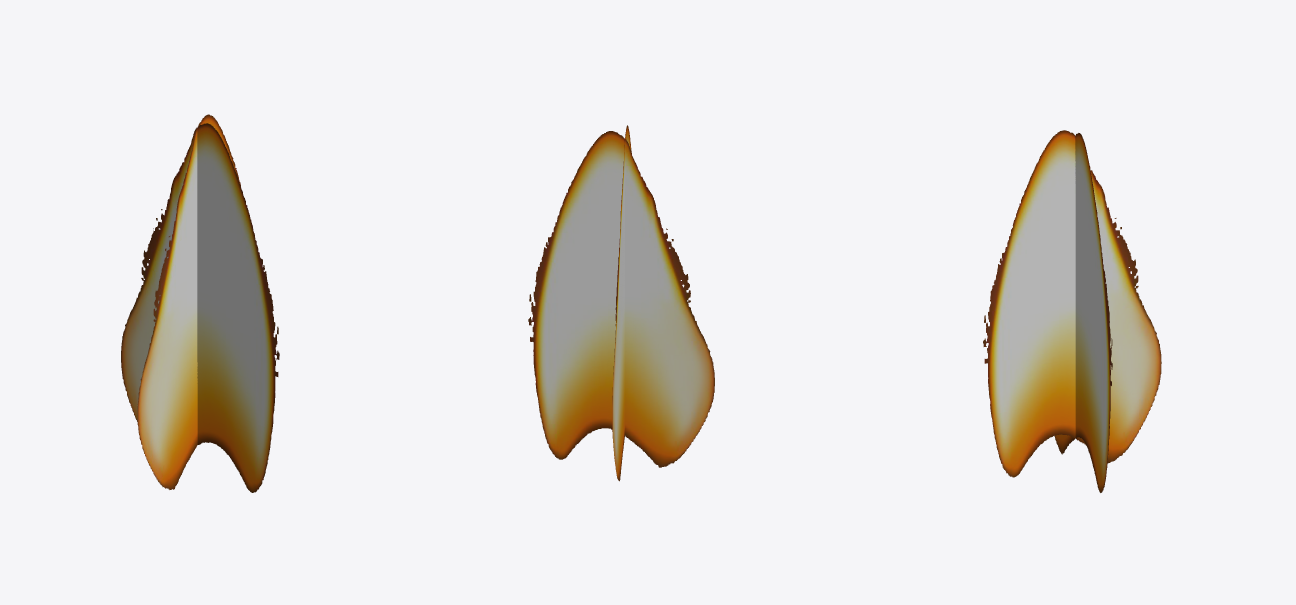
3 views of the same model, side by side, from view 1: azimuth 30°, elevation 25°; view 2: azimuth 150°, elevation 25°; view 3: azimuth 270°, elevation 25° (orthographic). The views are drawn at different scales.
Visible parts, largest first — view 1: FlameQuad; view 2: FlameQuad; view 3: FlameQuad.
Boxes of the visible parts, x1,y1,x2,y2 form: FlameQuad: (121,114,279,492); FlameQuad: (528,125,714,481); FlameQuad: (983,130,1161,492).
Bounding box in the file's own units: 10.25 × 11.05 × 10.25.
